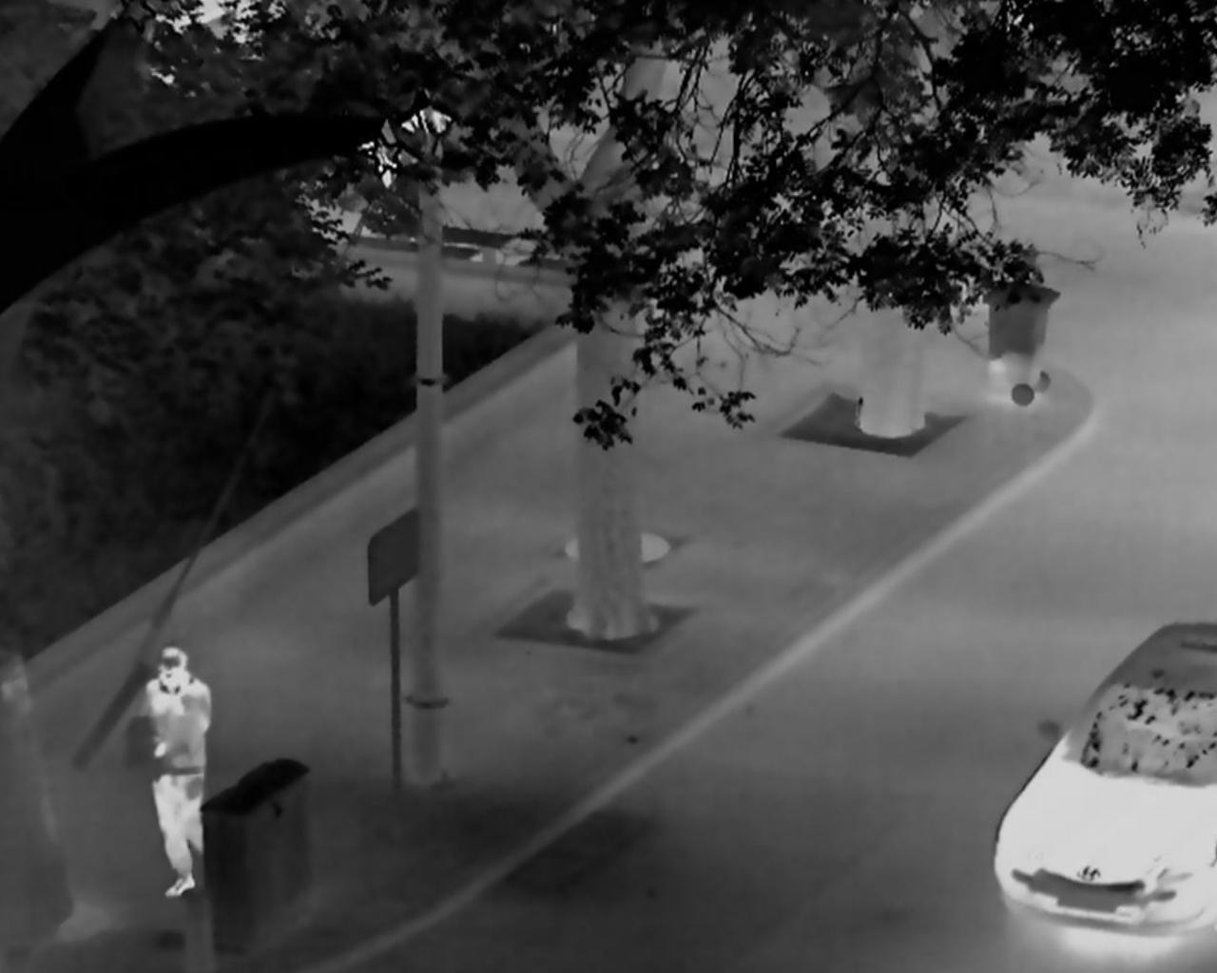person: (136, 645, 212, 900)
